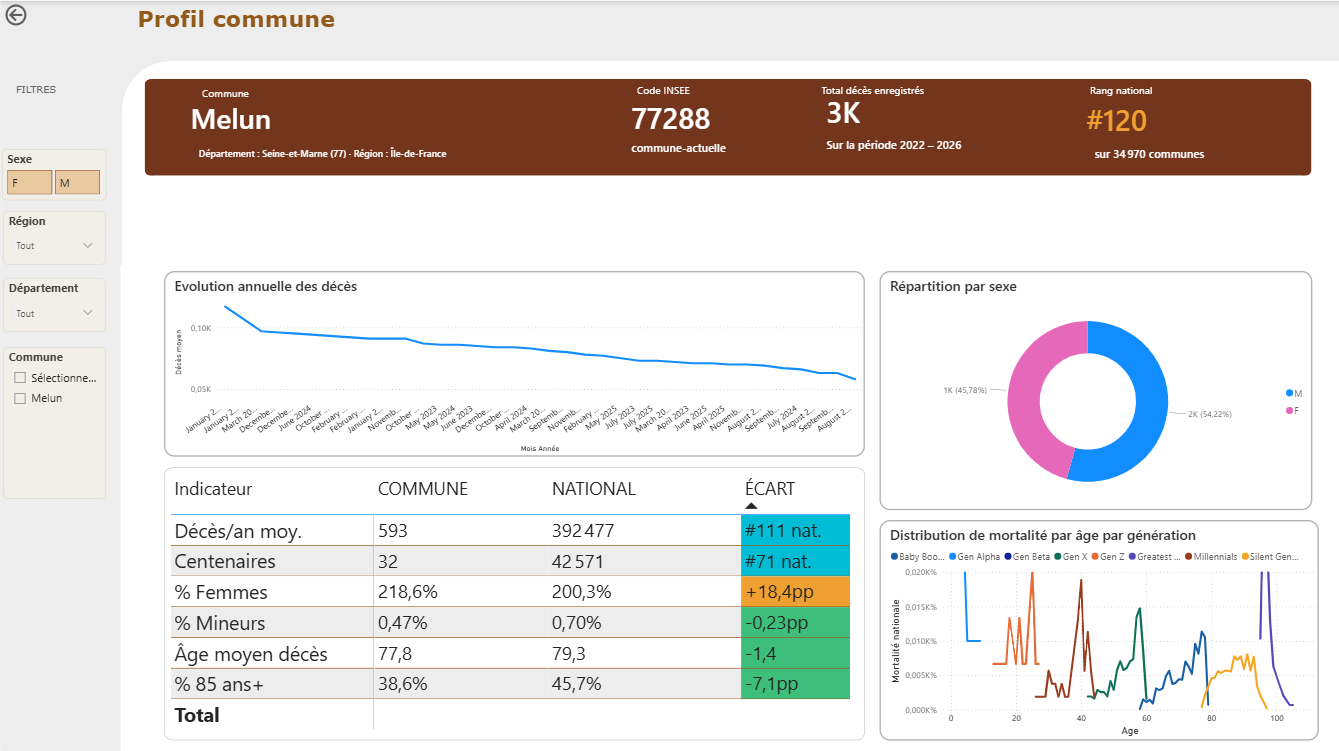

This screenshot's page, from the dashboard's own definition file:
{"tool":"powerbi","page":{"name":"Profil commune","canvas":[1920,1080],"ordinal":6},"visuals":[{"type":"group","id":"g1","title":"Groupe 1","box":[0,0,1919.3,1080.4],"z":0},{"type":"shape","box":[258.2,86.7,1661.1,993.7],"z":0,"group":"g1"},{"type":"shape","box":[204.4,111.3,1671.7,138.5],"z":500,"group":"g2"},{"type":"textbox","box":[189.3,0,812.5,58.9],"z":1000},{"type":"shape","box":[170,378.1,1661.1,702.3],"z":1000,"group":"g1"},{"type":"shape","box":[171.2,87,1747,992.4],"z":2000,"group":"g1"},{"type":"textbox","box":[14.3,110.7,98.2,35.7],"z":2000},{"type":"advancedSlicerVisual","fields":{"Values":["fact_deces.Sexe"]},"box":[0,213.6,149.2,72.9],"z":3000},{"type":"group","id":"g2","title":"Groupe 2","box":[204.4,111.3,1671.7,138.5],"z":5000},{"type":"lineChart","title":"Evolution annuelle des décès","fields":{"Y":["_mesures.Décès Moy par Mois"],"Category":["dim_date.AnMois Libelle"]},"box":[231.7,386.1,1003.9,265.7],"z":6000},{"type":"donutChart","title":"Répartition par sexe","fields":{"Y":["_Mesures.Total décès"],"Category":["fact_deces.Sexe"]},"box":[1256,386.1,620.1,343],"z":7000},{"type":"cardVisual","fields":{"Data":["_mesures.Label Commune"]},"box":[259.1,136.6,557.3,112.2],"z":8000},{"type":"slicer","title":"Commune","fields":{"Values":["dim_lieu.Libellé commune"]},"box":[2.8,495.8,145.8,216.7],"z":9000},{"type":"cardVisual","fields":{"Data":["_mesures.Label Code INSEE"]},"box":[889.6,125.6,181.7,125],"z":10000},{"type":"cardVisual","fields":{"Data":["Sum(agg_mortalite_commune.Nombre décès)"]},"box":[1168.3,116.5,332.9,132.9],"z":11000},{"type":"cardVisual","fields":{"Data":["_mesures.Label Rang Commune"]},"box":[1549.4,139,211,111.6],"z":12000},{"type":"textbox","box":[905.5,111.6,107.9,35.4],"z":13000},{"type":"textbox","box":[1168.3,111.6,181.1,35.4],"z":14000},{"type":"textbox","box":[1553.7,111.6,181.1,42.7],"z":15000},{"type":"lineChart","title":"Distribution de mortalité par âge par génération","fields":{"Category":["agg_mortalite_generation.Age"],"Series":["dim_generation.Nom génération"],"Y":["_Mesures.Mortalité Normalisée par Âge"]},"box":[1256,742.7,629.2,315.7],"z":16000},{"type":"pivotTable","fields":{"Rows":["_table_KPI_Comparaison.Indicateur"],"Values":["_mesures.KPI Valeur Commune","_mesures.KPI Valeur Nationale","_mesures.KPI Label Écart"]},"box":[231.7,667.8,1003.9,390.7],"z":17000},{"type":"slicer","title":"Région","fields":{"Values":["dim_lieu.Libellé région"]},"box":[2.8,301.4,145.8,76.4],"z":18000},{"type":"actionButton","box":[0,0,100,40],"z":18003,"group":"g1"},{"type":"slicer","title":"Département","fields":{"Values":["dim_lieu.Libellé département"]},"box":[2.8,397.2,145.8,76.4],"z":19000},{"type":"textbox","box":[281.2,116.4,101.1,31.7],"z":21000,"group":"g2"}]}

Visuals, with their boxes on the page's 1920x1080 design canvas (x1, y1, x2, y2). These are canvas units, not pixel positions in the 1339x751 screenshot, which may show the page scaled, cropped or inside an application window:
"Groupe 1" group: [left=0, top=0, right=1919, bottom=1080]
shape: [left=258, top=87, right=1919, bottom=1080]
shape: [left=204, top=111, right=1876, bottom=250]
textbox: [left=189, top=0, right=1002, bottom=59]
shape: [left=170, top=378, right=1831, bottom=1080]
shape: [left=171, top=87, right=1918, bottom=1079]
textbox: [left=14, top=111, right=112, bottom=146]
advancedSlicerVisual - fact_deces.Sexe: [left=0, top=214, right=149, bottom=286]
"Groupe 2" group: [left=204, top=111, right=1876, bottom=250]
"Evolution annuelle des décès" lineChart: [left=232, top=386, right=1236, bottom=652]
"Répartition par sexe" donutChart: [left=1256, top=386, right=1876, bottom=729]
cardVisual - _mesures.Label Commune: [left=259, top=137, right=816, bottom=249]
"Commune" slicer: [left=3, top=496, right=149, bottom=712]
cardVisual - _mesures.Label Code INSEE: [left=890, top=126, right=1071, bottom=251]
cardVisual - Sum(agg_mortalite_commune.Nombre décès): [left=1168, top=116, right=1501, bottom=249]
cardVisual - _mesures.Label Rang Commune: [left=1549, top=139, right=1760, bottom=251]
textbox: [left=906, top=112, right=1013, bottom=147]
textbox: [left=1168, top=112, right=1349, bottom=147]
textbox: [left=1554, top=112, right=1735, bottom=154]
"Distribution de mortalité par âge par génération" lineChart: [left=1256, top=743, right=1885, bottom=1058]
pivotTable - _table_KPI_Comparaison.Indicateur x _mesures.KPI Valeur Commune: [left=232, top=668, right=1236, bottom=1058]
"Région" slicer: [left=3, top=301, right=149, bottom=378]
actionButton: [left=0, top=0, right=100, bottom=40]
"Département" slicer: [left=3, top=397, right=149, bottom=474]
textbox: [left=281, top=116, right=382, bottom=148]
